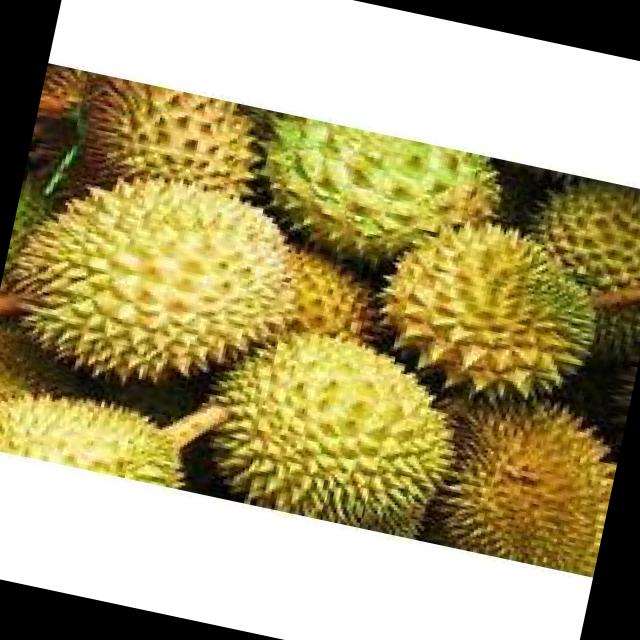fruit: (317, 165, 640, 553), (0, 117, 304, 452), (168, 286, 490, 546), (412, 360, 630, 574)
